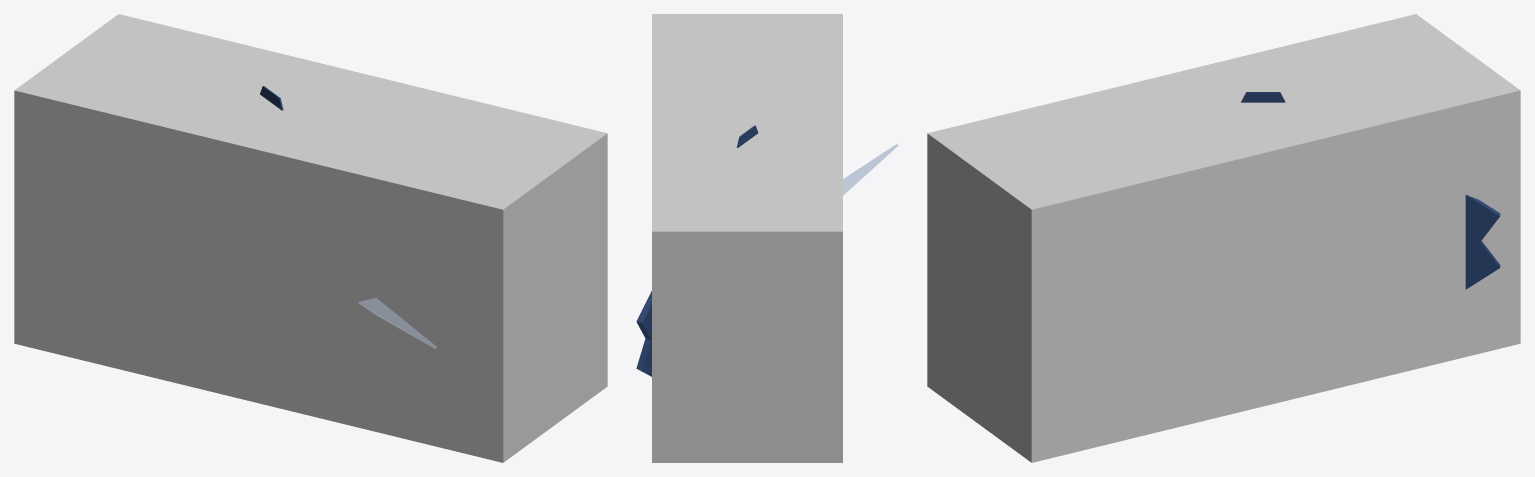
Rendered from tundra_swordfish.fbx.
3 views of the same model, side by side, from view 1: azimuth 30°, elevation 25°; view 2: azimuth 150°, elevation 25°; view 3: azimuth 270°, elevation 25° (orthographic). The views are drawn at different scales.
Parts seen in each view (by area): view 1: Root__0.00_2.00_-0.65__2.99_4.00_8.08, Body__Root__0.00_1.66_0.00; view 2: Root__0.00_2.00_-0.65__2.99_4.00_8.08, Tail__Body__0.00_1.66_1.72, Body__Root__0.00_1.66_0.00; view 3: Root__0.00_2.00_-0.65__2.99_4.00_8.08, Tail__Body__0.00_1.66_1.72.
Boxes of the visible parts, left/top/right/bottom form: Root__0.00_2.00_-0.65__2.99_4.00_8.08: left=14, top=14, right=607, bottom=462; Body__Root__0.00_1.66_0.00: left=260, top=86, right=436, bottom=348; Root__0.00_2.00_-0.65__2.99_4.00_8.08: left=652, top=14, right=842, bottom=462; Tail__Body__0.00_1.66_1.72: left=636, top=291, right=651, bottom=376; Body__Root__0.00_1.66_0.00: left=736, top=125, right=898, bottom=195; Root__0.00_2.00_-0.65__2.99_4.00_8.08: left=927, top=14, right=1520, bottom=462; Tail__Body__0.00_1.66_1.72: left=1465, top=195, right=1500, bottom=289.
Size of the model in its own units: 186 by 116 by 238.
1 material, 1 textured.
